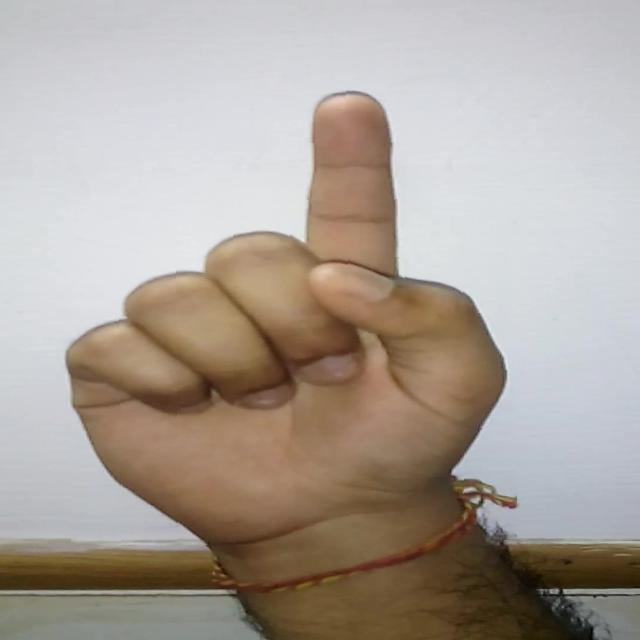I: (67, 84, 516, 546)
